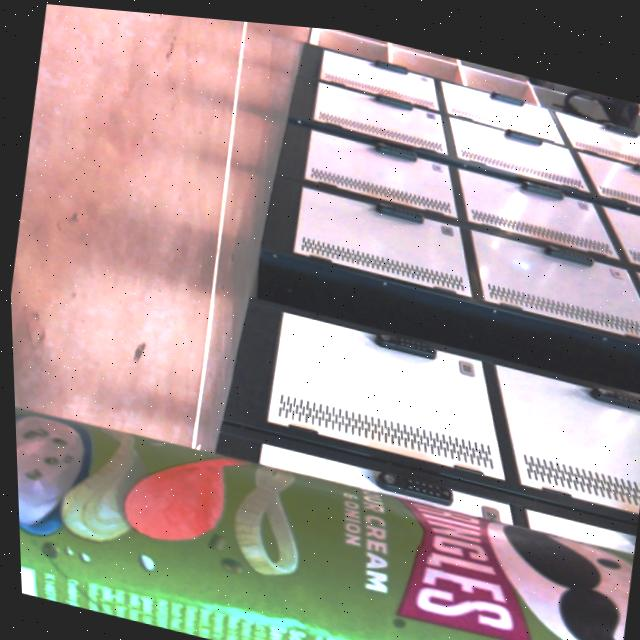greenpringles: (11, 374, 639, 640)
